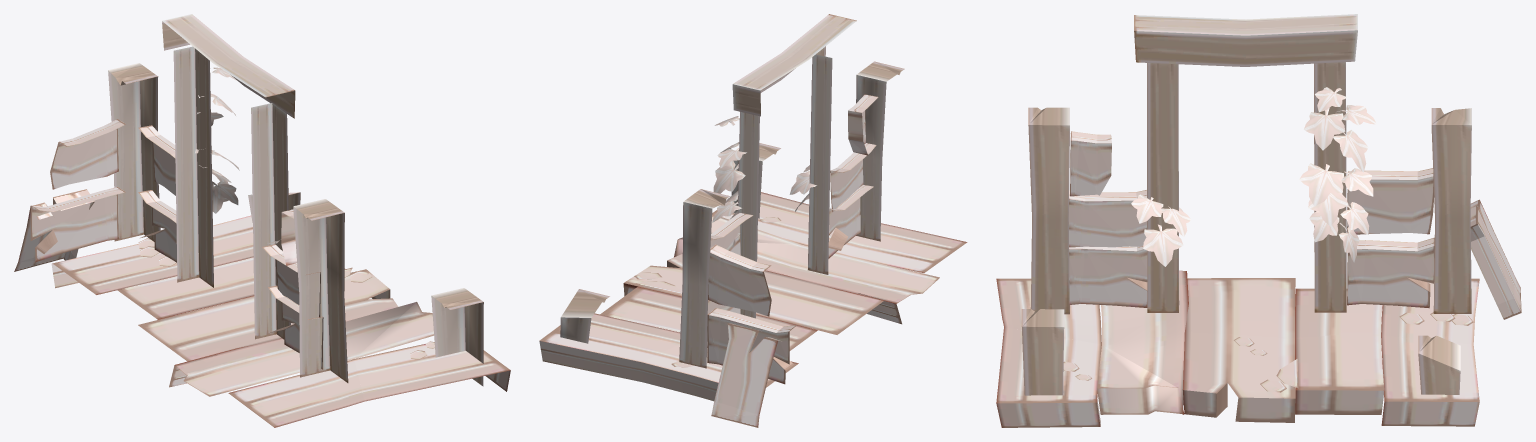
The model's file is ruin_wood_1.fbx.
3 renders of one model, left to right at view 1: azimuth 30°, elevation 25°; view 2: azimuth 150°, elevation 25°; view 3: azimuth 270°, elevation 25°, orthographic. The views are drawn at different scales.
Parts seen in each view (by area): view 1: RuinWood1; view 2: RuinWood1, IvyLeaf_Medium; view 3: RuinWood1, IvyLeaf_Dark, IvyLeaf_Medium (4), IvyLeaf_Bright, IvyLeaf_Medium, IvyLeaf_Medium (1), IvyLeaf_Bright (1), IvyLeaf_Bright (2), IvyLeaf_Dark (1), IvyLeaf_Dark (2), IvyLeaf_Dark (4), IvyLeaf_Medium (3).
Part boxes in pixels (box(x1,y1,x2,y2)): RuinWood1: box(14, 14, 510, 427); RuinWood1: box(539, 14, 967, 427); IvyLeaf_Medium: box(713, 160, 745, 193); RuinWood1: box(996, 14, 1521, 427); IvyLeaf_Dark: box(1299, 163, 1343, 206); IvyLeaf_Medium (4): box(1143, 224, 1183, 266); IvyLeaf_Bright: box(1304, 108, 1345, 150); IvyLeaf_Medium: box(1333, 130, 1368, 172); IvyLeaf_Medium (1): box(1308, 193, 1348, 226); IvyLeaf_Bright (1): box(1341, 168, 1373, 196); IvyLeaf_Bright (2): box(1131, 194, 1163, 223); IvyLeaf_Dark (1): box(1340, 202, 1369, 234); IvyLeaf_Dark (2): box(1309, 211, 1339, 242); IvyLeaf_Dark (4): box(1161, 206, 1190, 236); IvyLeaf_Medium (3): box(1315, 87, 1346, 112).
Bounding box in the file's own units: 1.53 × 1.64 × 2.45.
